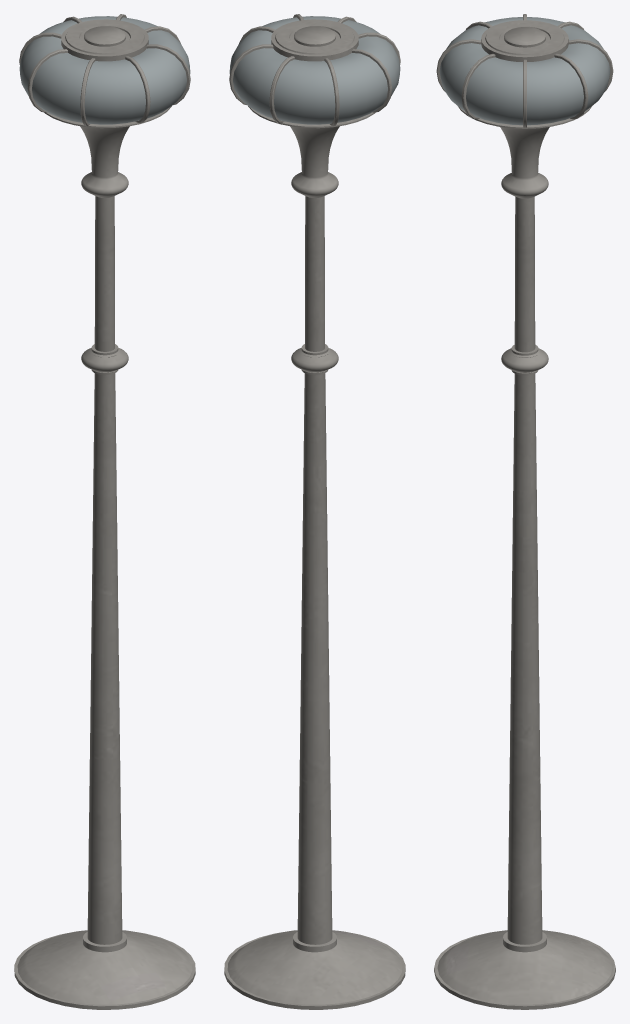
File: cargo_retro_lamp.glb
The picture shows the model from 3 angles, left to right: view 1: azimuth 30°, elevation 25°; view 2: azimuth 150°, elevation 25°; view 3: azimuth 270°, elevation 25°; orthographic projection.
Parts seen in each view (by area): view 1: KB3D_ATP_PropLampPost_A_Main; view 2: KB3D_ATP_PropLampPost_A_Main; view 3: KB3D_ATP_PropLampPost_A_Main.
Boxes of the visible parts, x1,y1,x2,y2 form: KB3D_ATP_PropLampPost_A_Main: [14, 14, 195, 1009]; KB3D_ATP_PropLampPost_A_Main: [224, 14, 405, 1009]; KB3D_ATP_PropLampPost_A_Main: [434, 14, 615, 1009].
Bounding box in the file's own units: 0.8 × 4.55 × 0.8.
2 materials, 2 textured.
